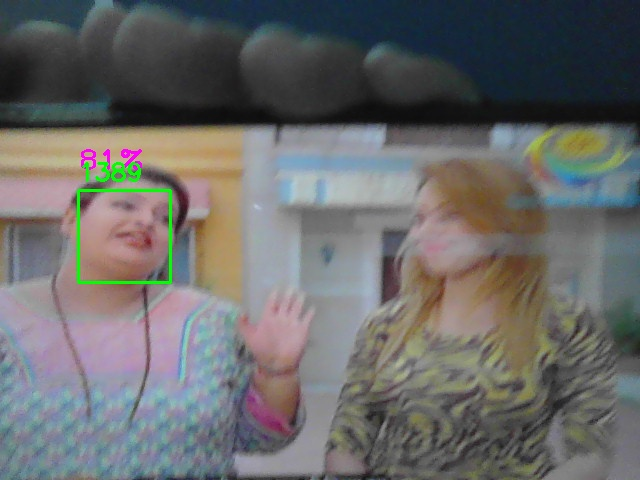fake: (78, 190, 171, 283)
